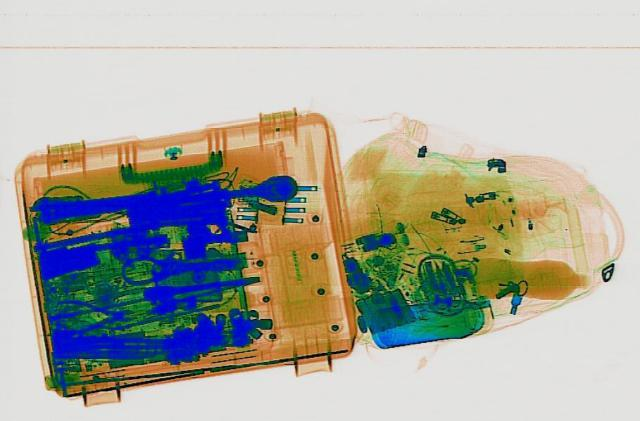Pliers: (53, 296, 135, 335)
